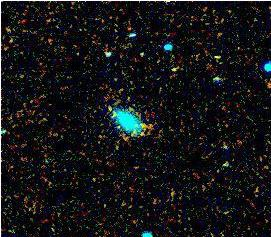star: (93, 94, 123, 124)
